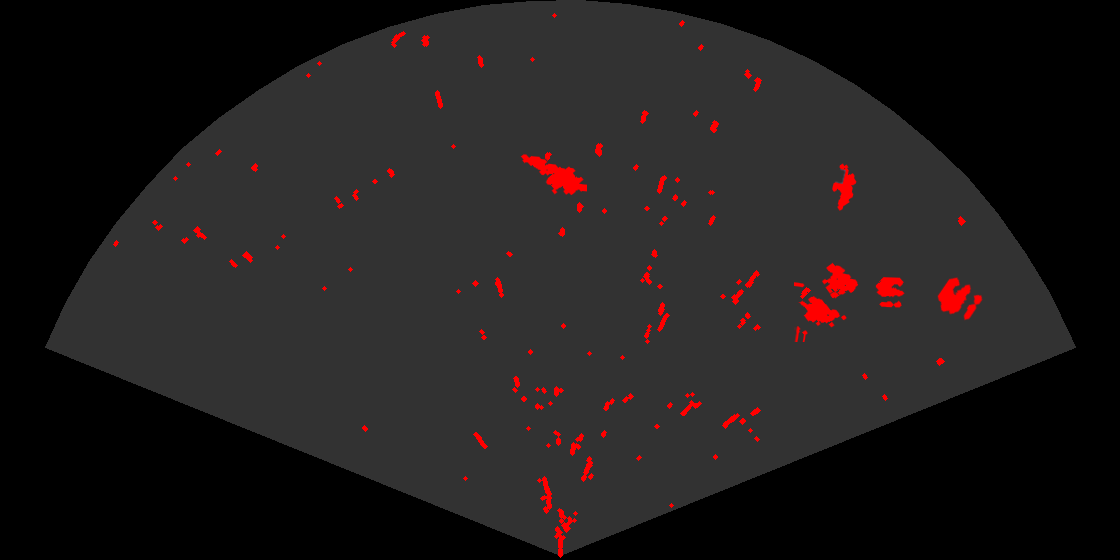AUV: (831, 162, 858, 212)
ball: (936, 276, 984, 322), (874, 275, 906, 309)
cage: (794, 261, 860, 342)
frogman: (519, 153, 587, 197)
